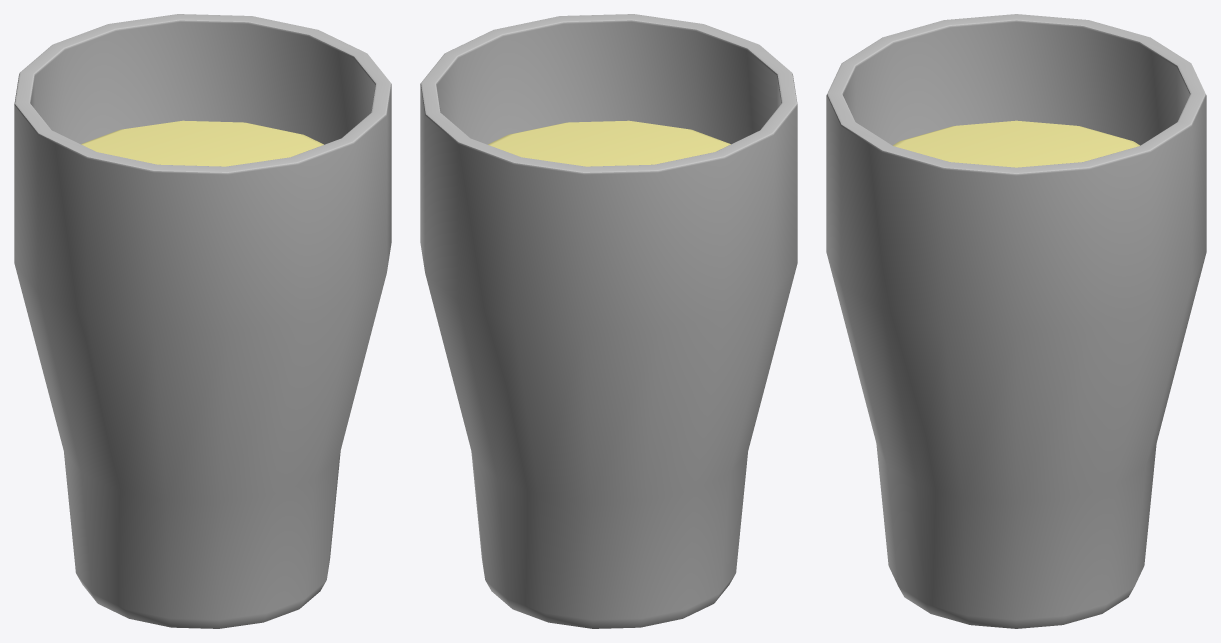
The model's file is Milk.fbx.
The picture shows the model from 3 angles, left to right: view 1: azimuth 30°, elevation 25°; view 2: azimuth 150°, elevation 25°; view 3: azimuth 270°, elevation 25°; orthographic projection.
Visible parts, largest first — view 1: Milk; view 2: Milk; view 3: Milk.
Part boxes in pixels (x1,y1,x2,y2): Milk: (14, 14, 391, 628); Milk: (420, 14, 797, 628); Milk: (826, 14, 1206, 628).
Size of the model in its own units: 23.16 by 32.88 by 23.16.
